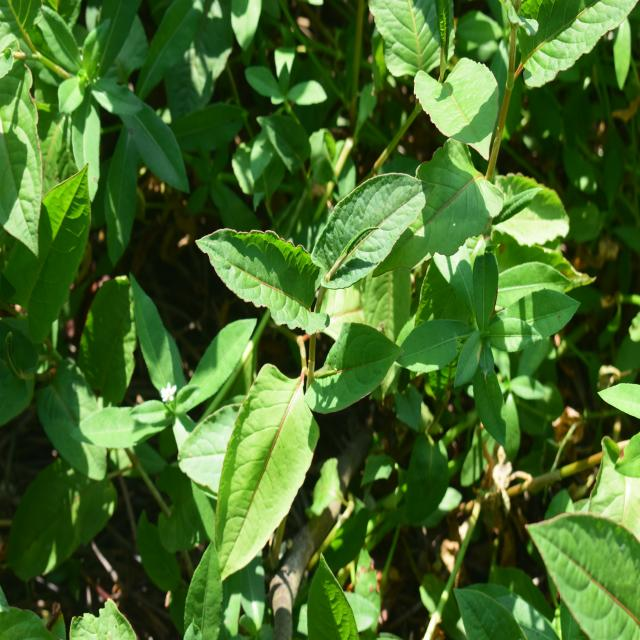Chinese_knotweed: (204, 155, 409, 542)
